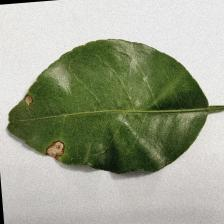canker: (22, 87, 70, 166)
